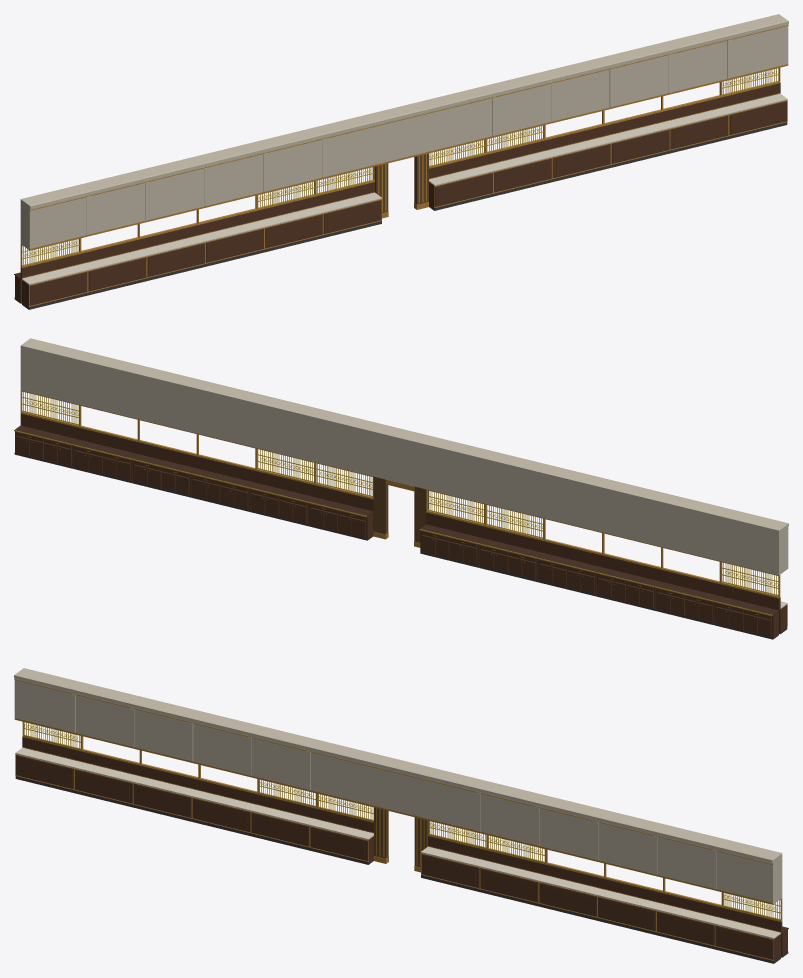
Rendered from prop_of_teller_line.glb.
3 renders of one model, top to bottom at view 1: azimuth 30°, elevation 25°; view 2: azimuth 150°, elevation 25°; view 3: azimuth 330°, elevation 25°, orthographic.
Visible parts, largest first — view 1: Counter; view 2: Counter; view 3: Counter.
Boxes of the visible parts, x1,y1,x2,y2 form: Counter: [14, 14, 788, 309]; Counter: [14, 338, 788, 639]; Counter: [14, 668, 788, 963].
Size of the model in its own units: 31.8 by 4.2 by 1.22.
